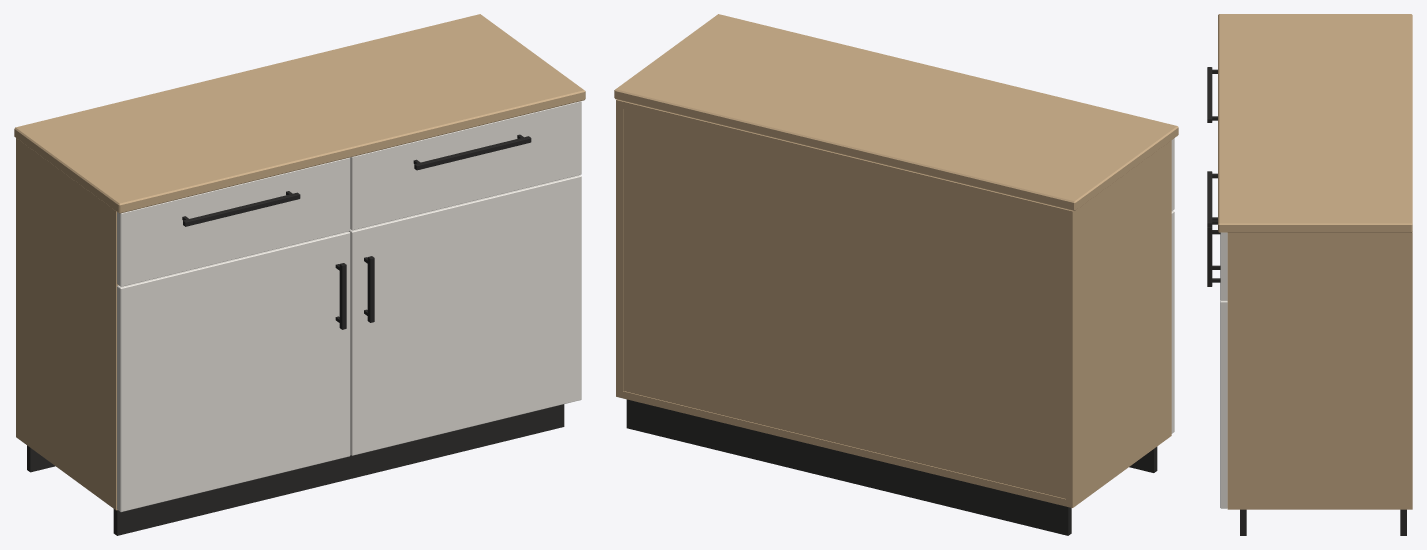
The model's file is 18_komoda_120_2d_2sz.glb.
The picture shows the model from 3 angles, left to right: view 1: azimuth 30°, elevation 25°; view 2: azimuth 150°, elevation 25°; view 3: azimuth 270°, elevation 25°; orthographic projection. The views are drawn at different scales.
Visible parts, largest first — view 1: Wierzch, Front_drzwi_2, Front_drzwi_4, Korpus, Front_szuflada_1, Front_szuflada_3, Cokol, Uchwyty; view 2: Korpus, Wierzch, Cokol, Front_drzwi_2; view 3: Korpus, Wierzch, Front_drzwi_4, Uchwyty, Front_szuflada_3, Cokol.
Part boxes in pixels (x1,y1,x2,y2): Wierzch: (14, 14, 585, 213); Front_drzwi_2: (117, 231, 350, 512); Front_drzwi_4: (349, 175, 581, 455); Korpus: (16, 138, 118, 510); Front_szuflada_1: (117, 157, 350, 286); Front_szuflada_3: (350, 101, 581, 230); Cokol: (27, 404, 564, 535); Uchwyty: (182, 134, 531, 329); Korpus: (616, 99, 1171, 507); Wierzch: (614, 14, 1178, 210); Cokol: (626, 399, 1157, 535); Front_drzwi_2: (1171, 210, 1174, 433); Korpus: (1227, 232, 1412, 509); Wierzch: (1218, 14, 1412, 232); Front_drzwi_4: (1220, 300, 1227, 508); Uchwyty: (1207, 67, 1220, 286); Front_szuflada_3: (1220, 232, 1227, 300); Cokol: (1240, 509, 1406, 535).
Size of the model in its own units: 1.21 by 0.85 by 0.5.
